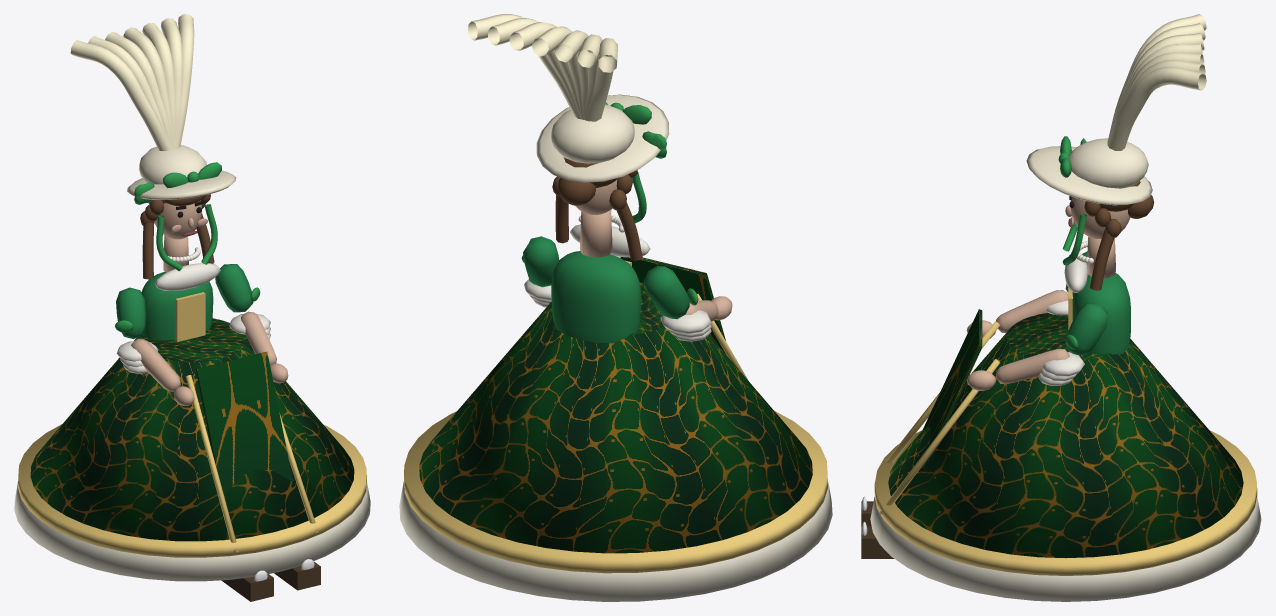
File: elizabeth.glb
3 renders of one model, left to right at view 1: azimuth 30°, elevation 25°; view 2: azimuth 150°, elevation 25°; view 3: azimuth 270°, elevation 25°, orthographic. The views are drawn at different scales.
Parts seen in each view (by area): view 1: skirt, petticoat, underskirt, hem_gold, torso, feather, crown, brim, stomacher, upper_arm.001, feather.006, fichu (+15 smaller); view 2: skirt, petticoat, hem_gold, torso, brim, crown, upper_arm, underskirt, feather, upper_arm.001, neck, feather.006 (+11 smaller); view 3: skirt, petticoat, hem_gold, crown, brim, torso, underskirt, feather.006, upper_arm.001, forearm.001, gold_edge.001, forearm (+13 smaller).
Part boxes in pixels (x1,y1,x2,y2): skirt: [30, 318, 354, 541]; petticoat: [14, 481, 370, 581]; underskirt: [195, 352, 292, 496]; hem_gold: [18, 424, 366, 557]; torso: [141, 271, 213, 340]; feather: [70, 40, 171, 150]; crown: [139, 145, 206, 184]; brim: [127, 170, 236, 199]; stomacher: [175, 292, 205, 341]; upper_arm.001: [215, 264, 253, 312]; feather.006: [175, 14, 194, 148]; fichu: [155, 263, 220, 290]; skirt: [419, 282, 812, 553]; petticoat: [399, 481, 832, 601]; hem_gold: [404, 411, 827, 573]; torso: [551, 251, 641, 343]; brim: [536, 94, 669, 182]; crown: [551, 104, 634, 163]; upper_arm: [643, 266, 689, 319]; underskirt: [620, 257, 726, 354]; feather: [587, 38, 617, 121]; upper_arm.001: [523, 236, 558, 287]; neck: [580, 210, 612, 257]; feather.006: [468, 14, 579, 118]; skirt: [888, 313, 1243, 558]; petticoat: [870, 496, 1261, 601]; hem_gold: [874, 430, 1257, 575]; crown: [1069, 138, 1148, 188]; brim: [1026, 146, 1152, 205]; torso: [1072, 273, 1130, 354]; underskirt: [922, 309, 982, 467]; feather.006: [1107, 67, 1206, 150]; upper_arm.001: [1065, 303, 1108, 355]; forearm.001: [996, 348, 1069, 384]; gold_edge.001: [880, 359, 1000, 514]; forearm: [996, 290, 1068, 332].
Bounding box in the file's own units: 1.32 × 1.85 × 1.35.
20 materials, 2 textured.
